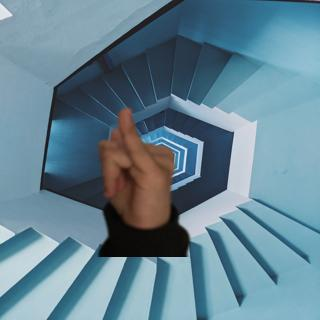HAVE: (90, 104, 183, 234)
